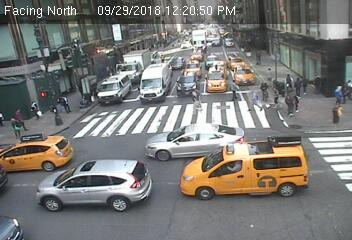car: (180, 139, 311, 199), (38, 159, 154, 210), (145, 120, 243, 160), (1, 134, 74, 172), (137, 62, 173, 102), (117, 48, 150, 82), (97, 73, 132, 102), (206, 69, 228, 95), (233, 63, 256, 85), (178, 73, 196, 94), (191, 28, 207, 48), (186, 60, 201, 80), (229, 56, 245, 70), (173, 54, 184, 70), (205, 54, 218, 67), (222, 37, 236, 47), (211, 36, 220, 47)
